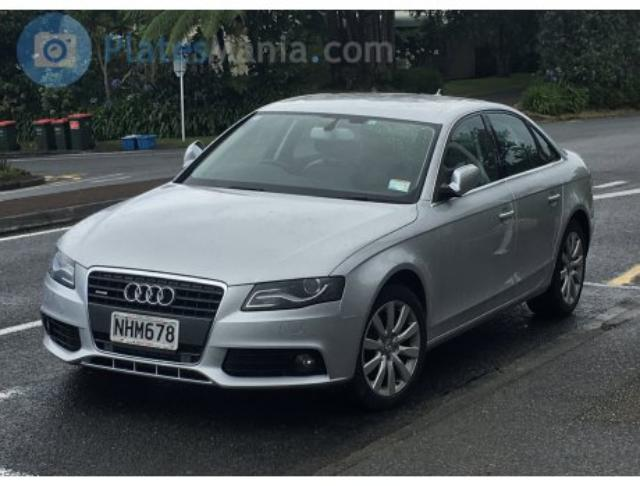Rego: (109, 313, 177, 353)
